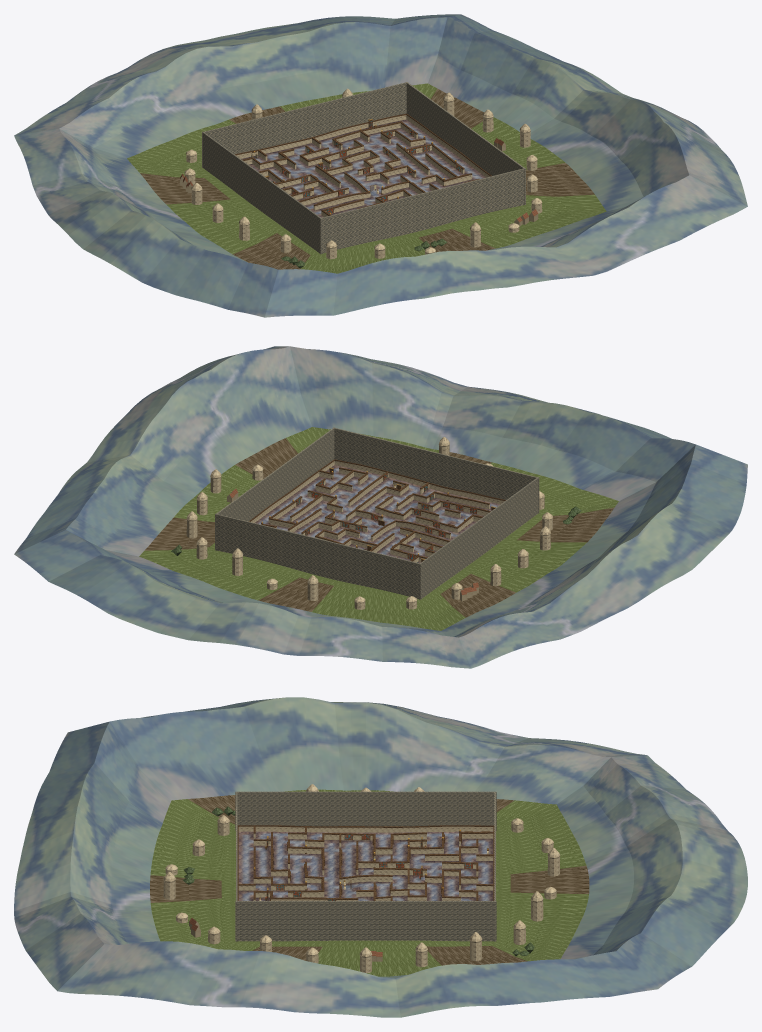
File: VellumWalk.fbx
The picture shows the model from 3 angles, top to bottom: view 1: azimuth 30°, elevation 25°; view 2: azimuth 150°, elevation 25°; view 3: azimuth 270°, elevation 25°; orthographic projection. The views are drawn at different scales.
Visible parts, largest first — view 1: Surroundings, C_Solids, Rim, Terrain, Horizon, Set; view 2: Surroundings, C_Solids, Rim, Terrain, Horizon, Set; view 3: Surroundings, C_Solids, Terrain, Rim, Horizon, Set.
Boxes of the visible parts, x1=… form: Surroundings: x1=14, y1=14, x2=747, y2=317; C_Solids: x1=202, y1=82, x2=525, y2=254; Rim: x1=235, y1=113, x2=491, y2=216; Terrain: x1=241, y1=119, x2=485, y2=217; Horizon: x1=184, y1=88, x2=542, y2=259; Set: x1=251, y1=119, x2=466, y2=215; Surroundings: x1=14, y1=346, x2=747, y2=668; C_Solids: x1=215, y1=427, x2=539, y2=599; Rim: x1=249, y1=459, x2=505, y2=562; Terrain: x1=255, y1=465, x2=499, y2=563; Horizon: x1=186, y1=437, x2=552, y2=609; Set: x1=261, y1=467, x2=495, y2=561; Surroundings: x1=14, y1=697, x2=747, y2=1017; C_Solids: x1=235, y1=791, x2=496, y2=941; Terrain: x1=238, y1=831, x2=493, y2=900; Rim: x1=237, y1=825, x2=494, y2=900; Horizon: x1=163, y1=784, x2=560, y2=973; Set: x1=242, y1=829, x2=490, y2=900.
Size of the model in its own units: 34517 by 3740 by 34306.
